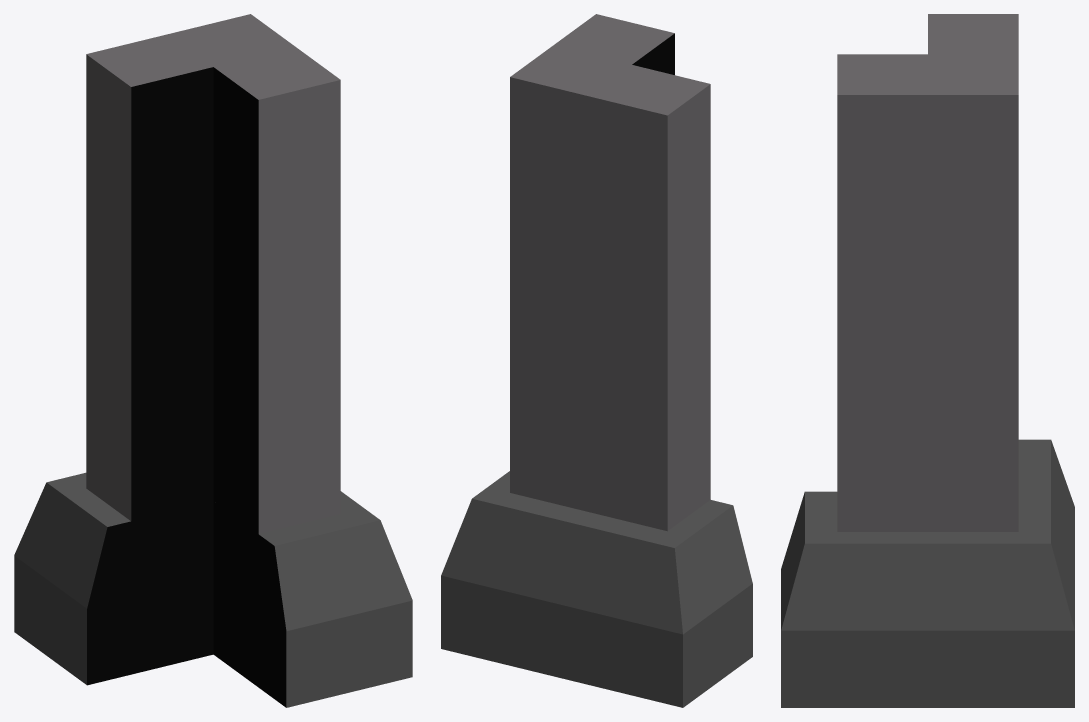
Rendered from Pillar_ThreeQuarters_Base.fbx.
The picture shows the model from 3 angles, left to right: view 1: azimuth 30°, elevation 25°; view 2: azimuth 150°, elevation 25°; view 3: azimuth 270°, elevation 25°; orthographic projection. The views are drawn at different scales.
Visible parts, largest first — view 1: Pillar_ThreeQuarters_Base; view 2: Pillar_ThreeQuarters_Base; view 3: Pillar_ThreeQuarters_Base.
Boxes of the visible parts, x1=… form: Pillar_ThreeQuarters_Base: x1=14, y1=14, x2=412, y2=707; Pillar_ThreeQuarters_Base: x1=441, y1=14, x2=752, y2=707; Pillar_ThreeQuarters_Base: x1=781, y1=14, x2=1074, y2=707.
Bounding box in the file's own units: 69 × 153 × 69.
